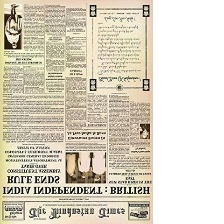news_paper: (0, 0, 156, 224)
